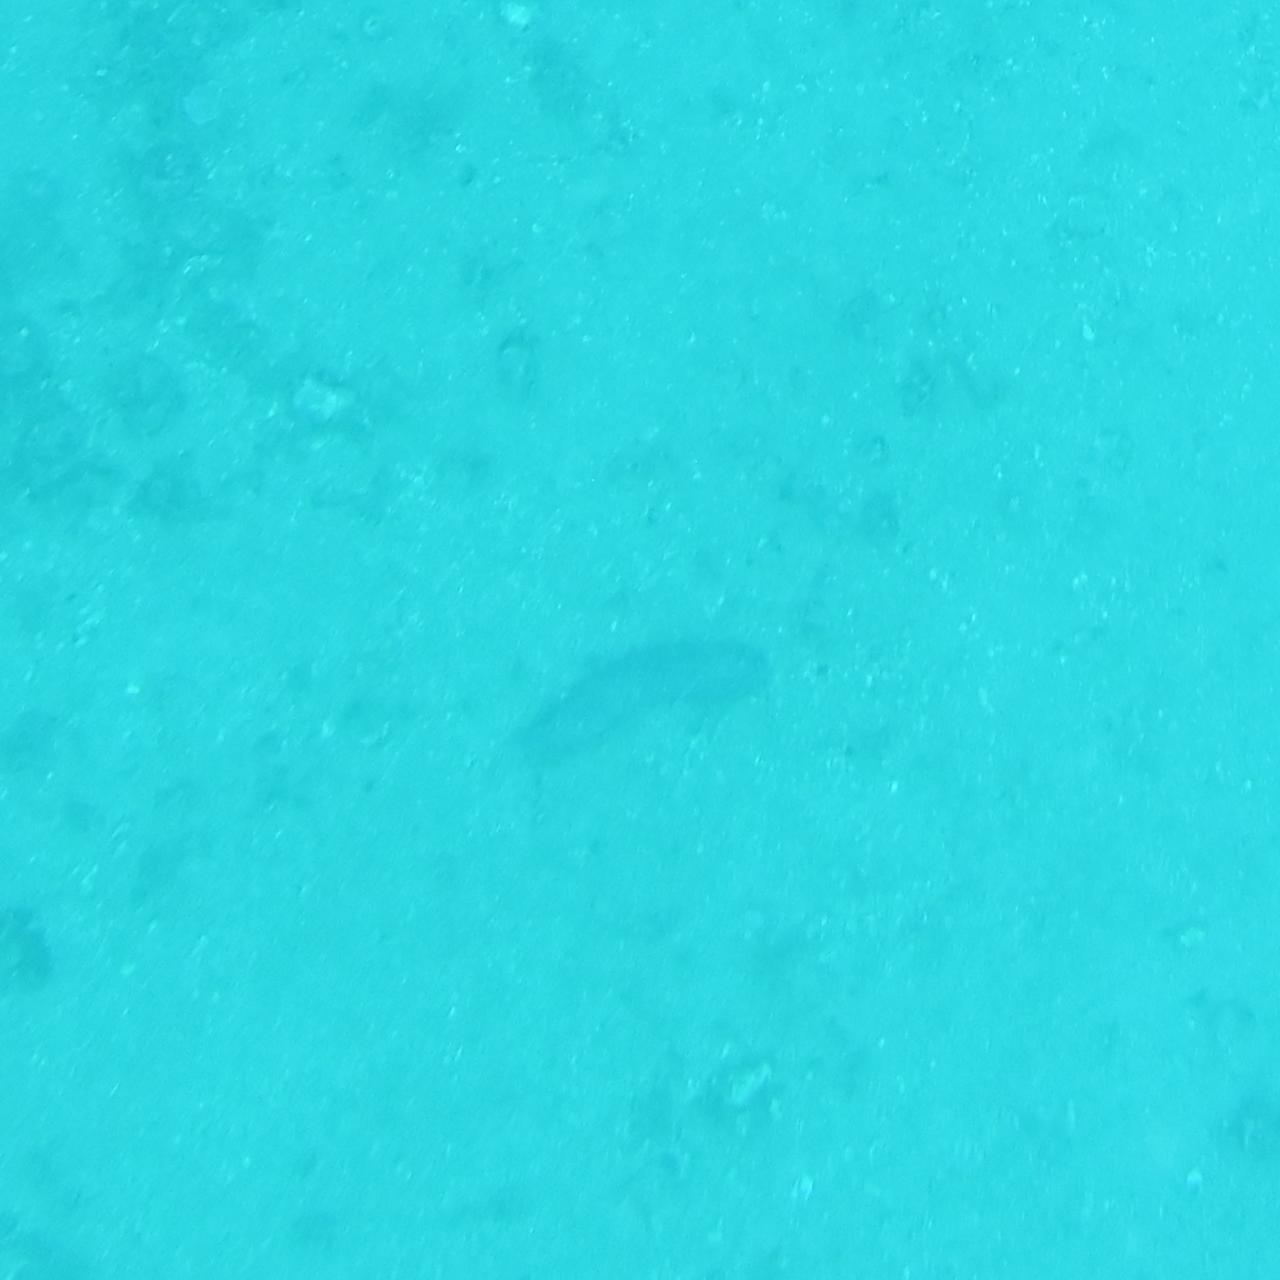Holothuria tubulosa: (496, 631, 784, 753)
